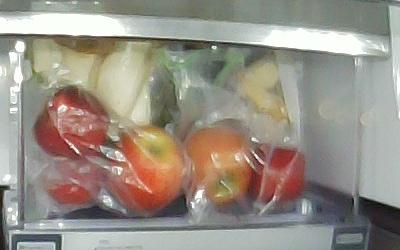apple_vinyl: (95, 124, 187, 210), (30, 83, 110, 160), (180, 120, 250, 205), (37, 154, 105, 206), (248, 141, 305, 203)
